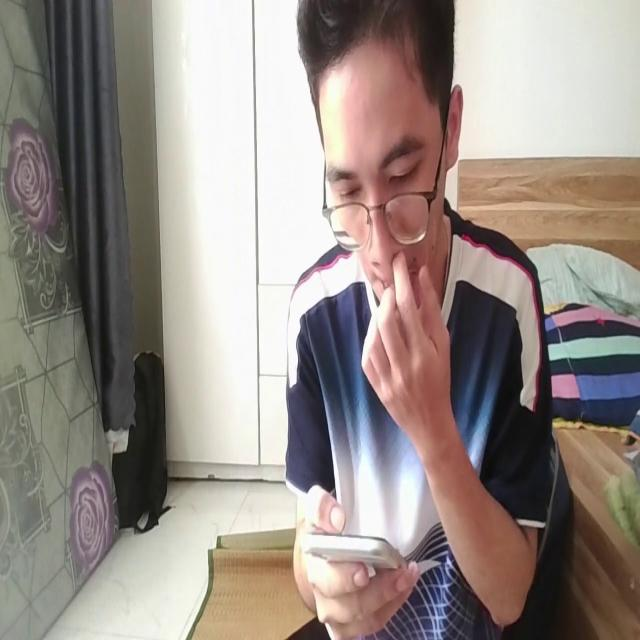phone: (296, 498, 411, 583)
student: (268, 0, 572, 640)
